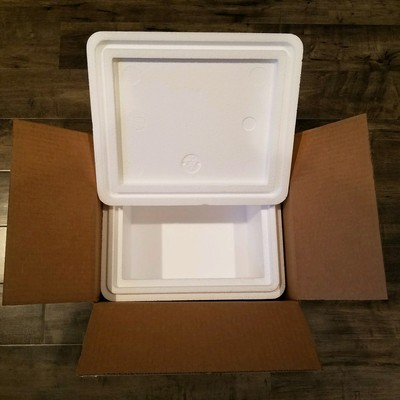Boxes: (87, 32, 302, 300)
